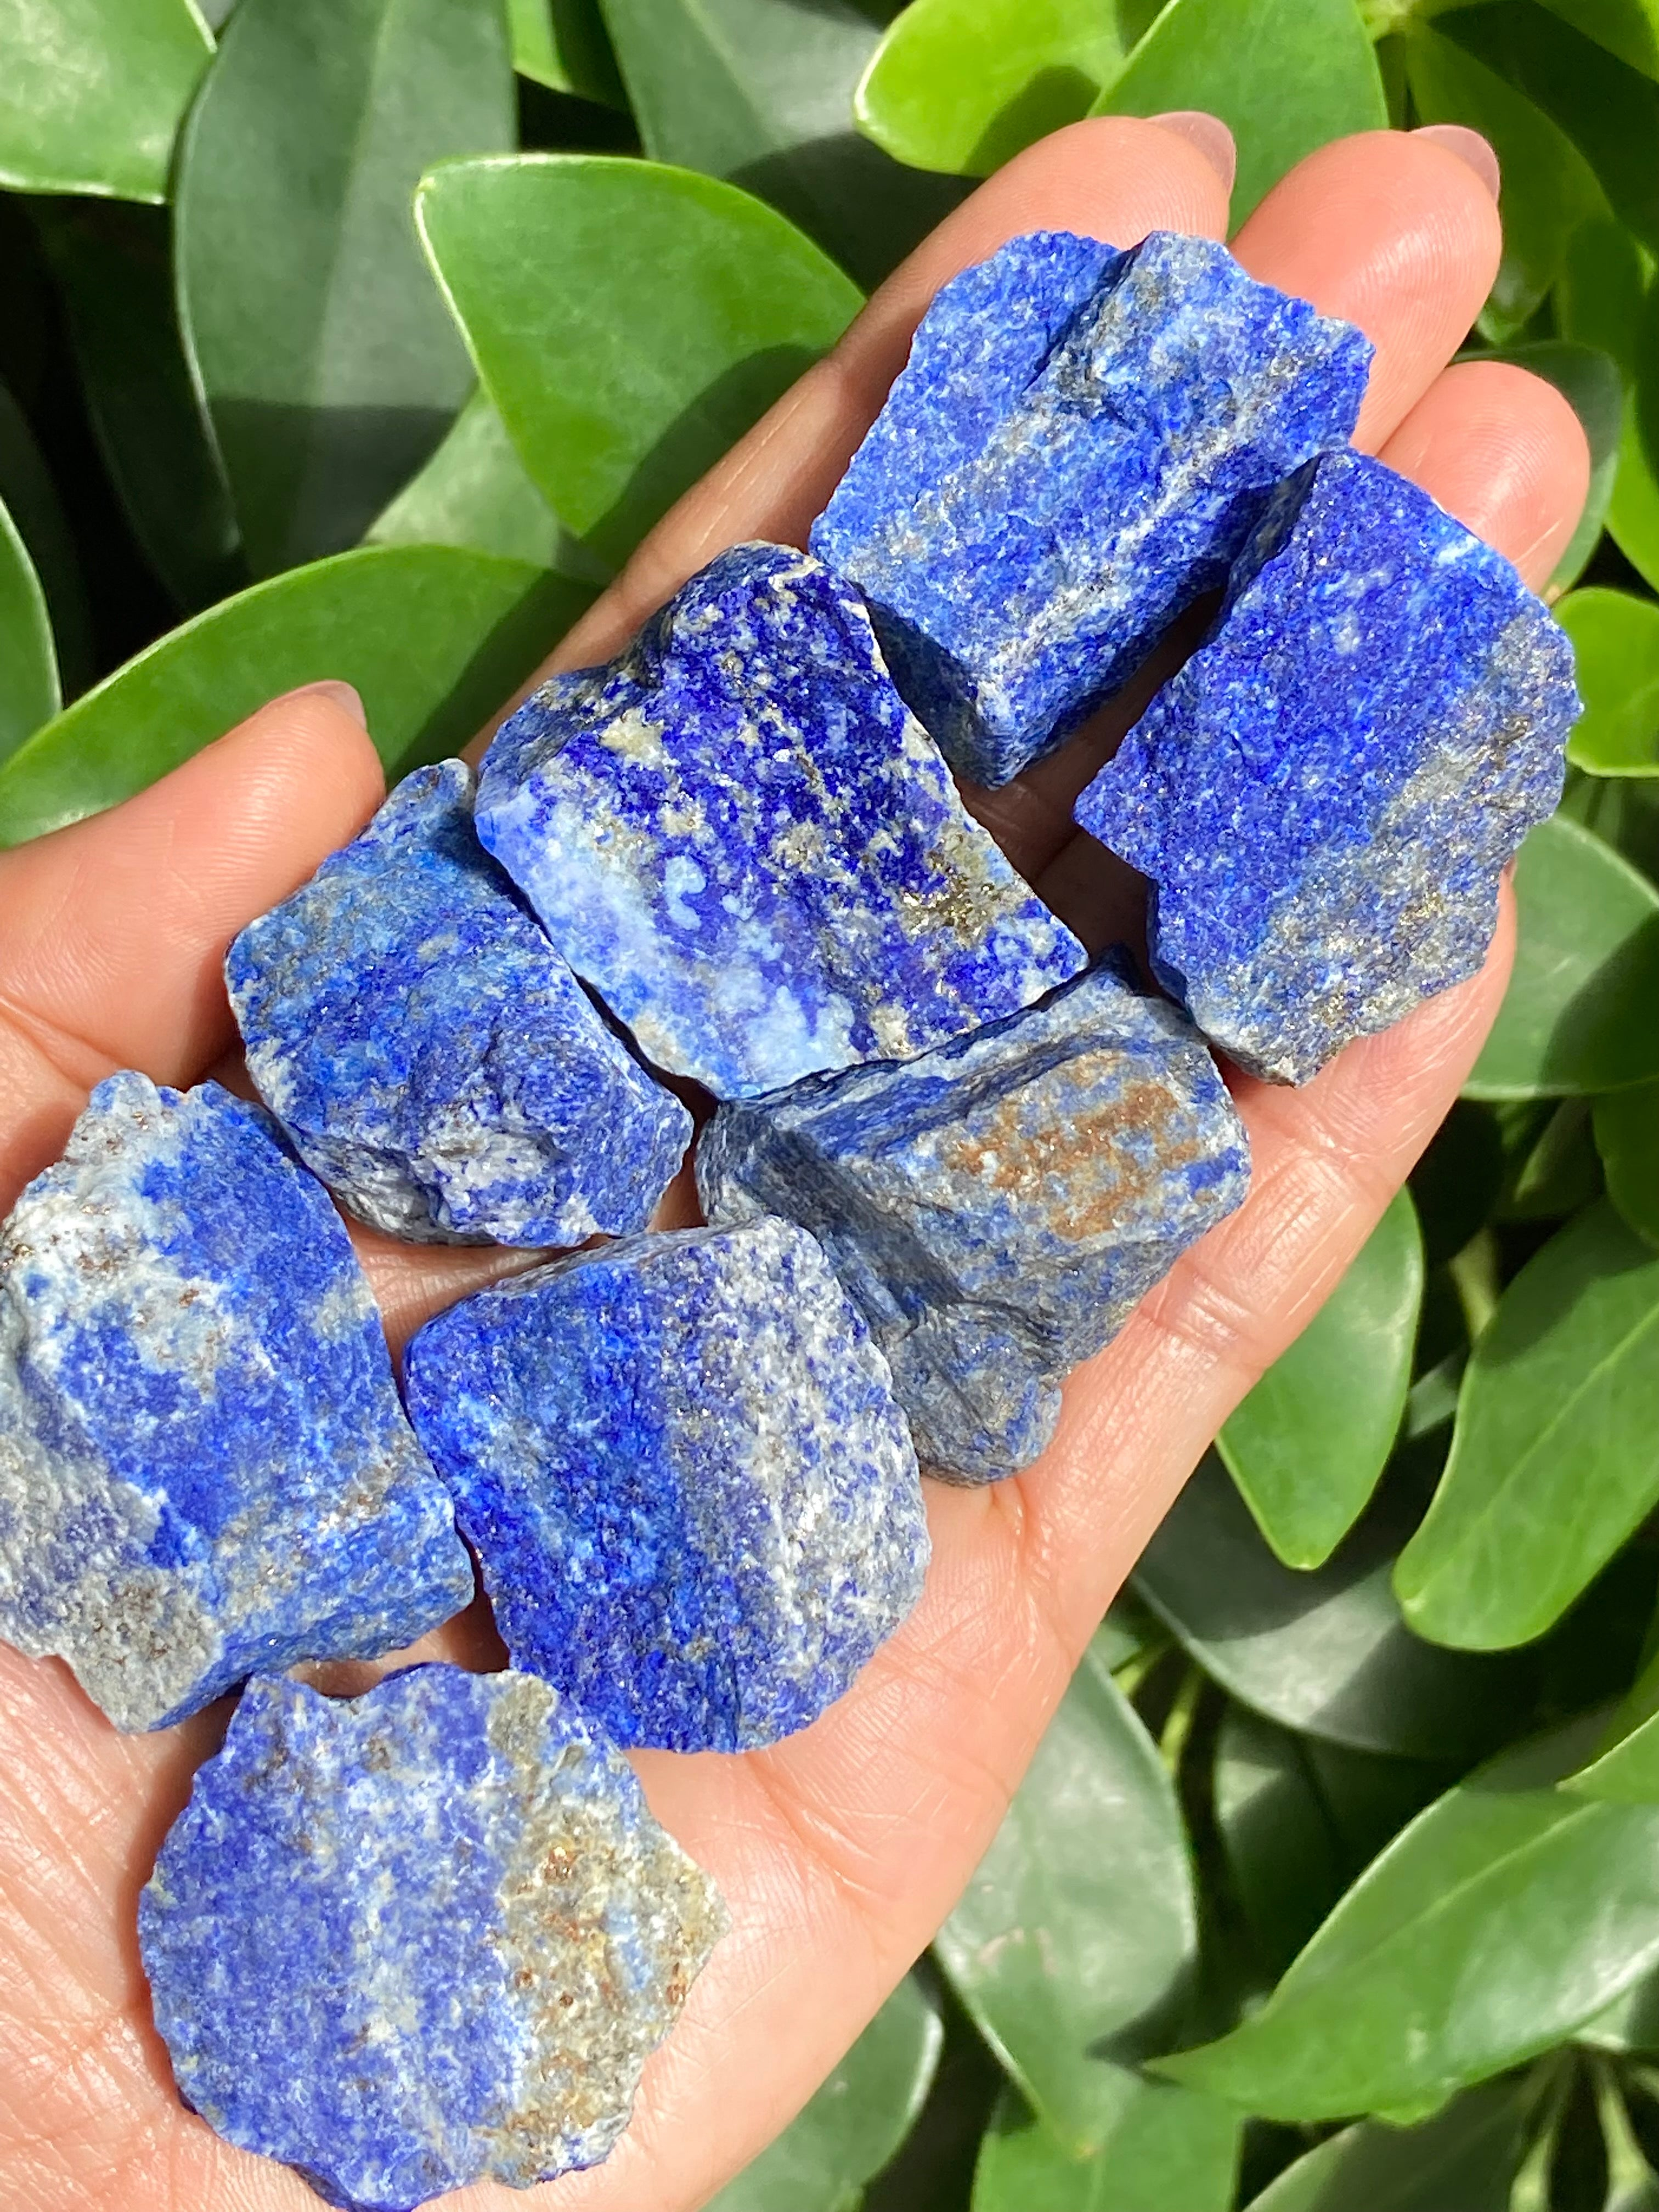Lapis_Lazuli: (795, 230, 1575, 1007), (385, 1198, 955, 1773)
